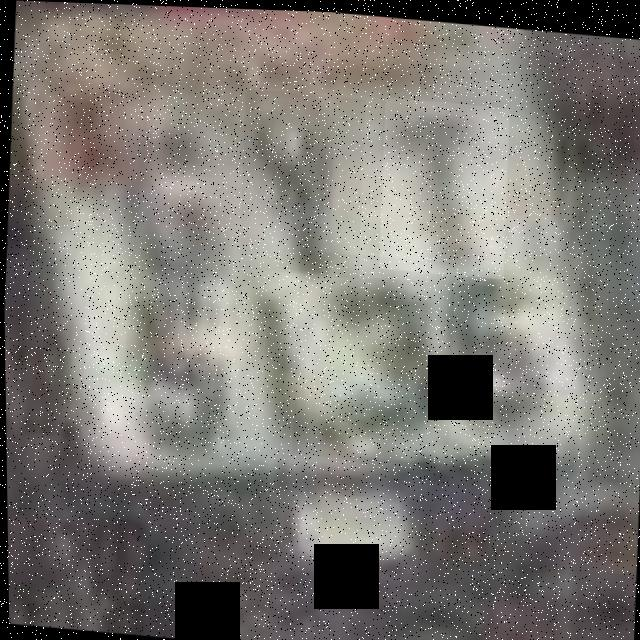1: (209, 256, 361, 461)
3: (289, 247, 457, 465)
5: (97, 259, 253, 443), (421, 265, 565, 456)
N: (236, 87, 368, 277)
P: (99, 103, 243, 290)
T: (376, 94, 512, 276)
